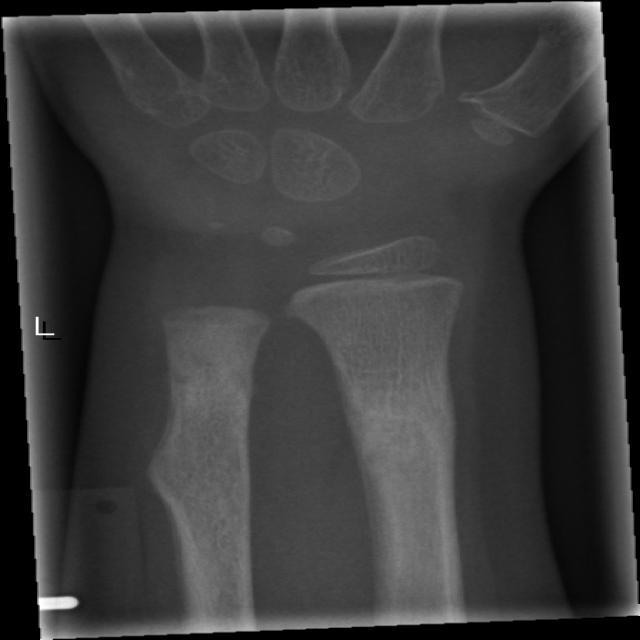radius fracture: (313, 368, 487, 540)
ulna fracture: (115, 378, 281, 584)
